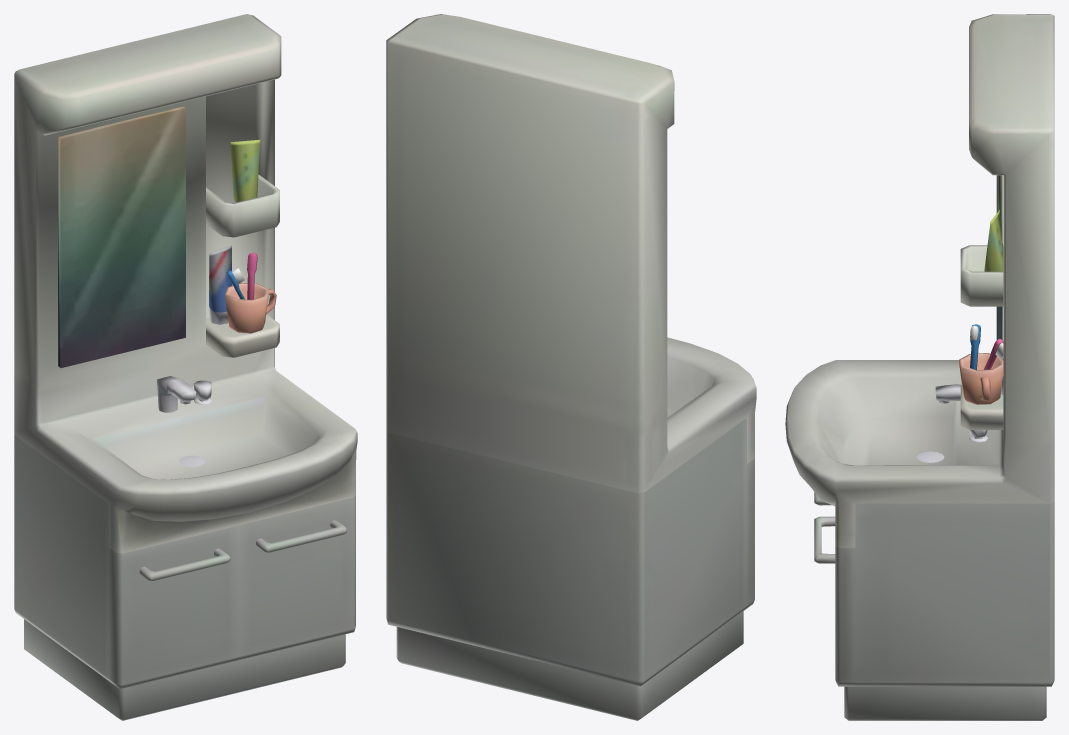
3 views of the same model, side by side, from view 1: azimuth 30°, elevation 25°; view 2: azimuth 150°, elevation 25°; view 3: azimuth 270°, elevation 25° (orthographic). The views are drawn at different scales.
Size of the model in its own units: 8.03 by 18.61 by 7.64.
Materials: 2 (2 with a texture image).
